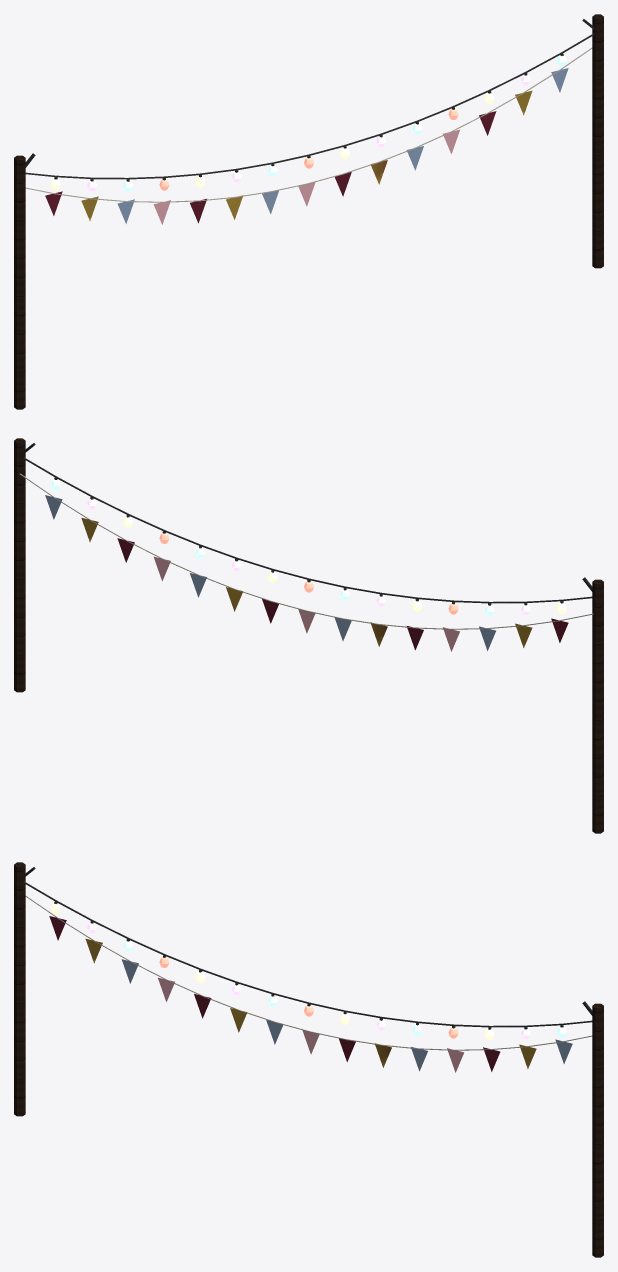
Rendered from garland.glb.
3 views of the same model, one above another, from view 1: azimuth 30°, elevation 25°; view 2: azimuth 150°, elevation 25°; view 3: azimuth 330°, elevation 25° (orthographic).
Visible parts, largest first — view 1: garland; view 2: garland; view 3: garland.
Part boxes in pixels (bbox=[...]): garland: bbox=[14, 14, 603, 409]; garland: bbox=[14, 438, 603, 833]; garland: bbox=[14, 862, 603, 1257].
Size of what is drawn, in the model's own units: 8.12 by 3.31 by 0.14.
Materials: 12 (5 with a texture image).
